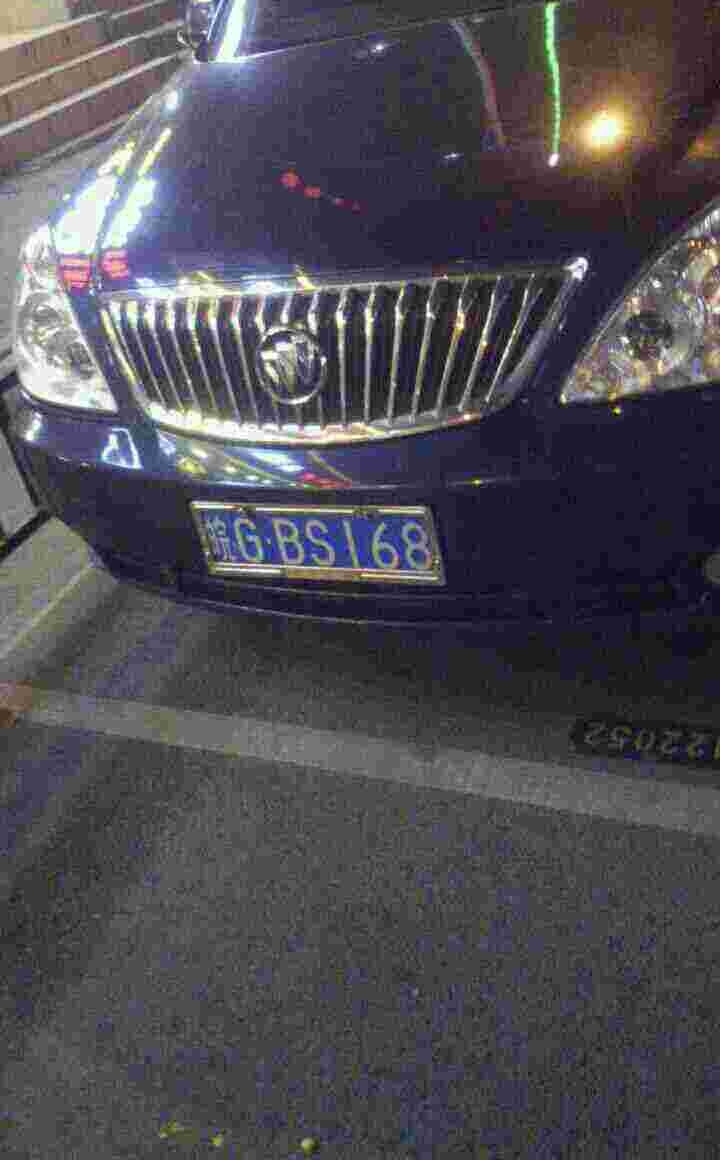license_plate: (198, 506, 438, 572)
